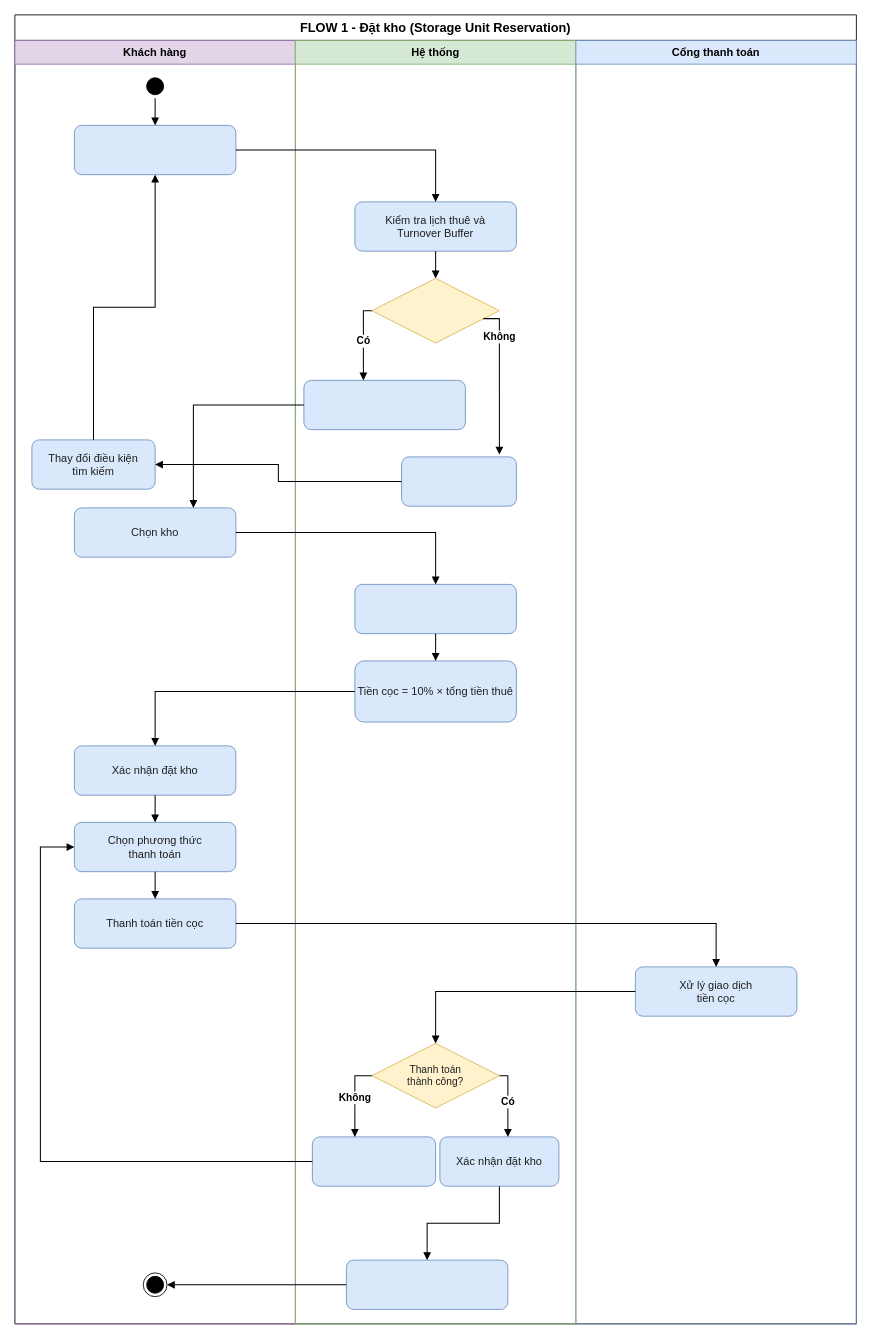
This 871x1339 diagram has some shape labels left out. Here are the shapes that lost their labels. From the top down, the centre of each, then its label:
point 155,150: Tìm kho theo loại, kích thước, ngày bắt đầu và thời hạn thuê
point 435,310: Có kho phù hợp?
point 384,405: Hiển thị các kho có thể đặt
point 458,481: Thông báo không có kho phù hợp
point 435,609: Tính tổng tiền thuê
point 374,1161: Thông báo thanh toán thất bại
point 427,1284: Cập nhật kho = Đã đặt
